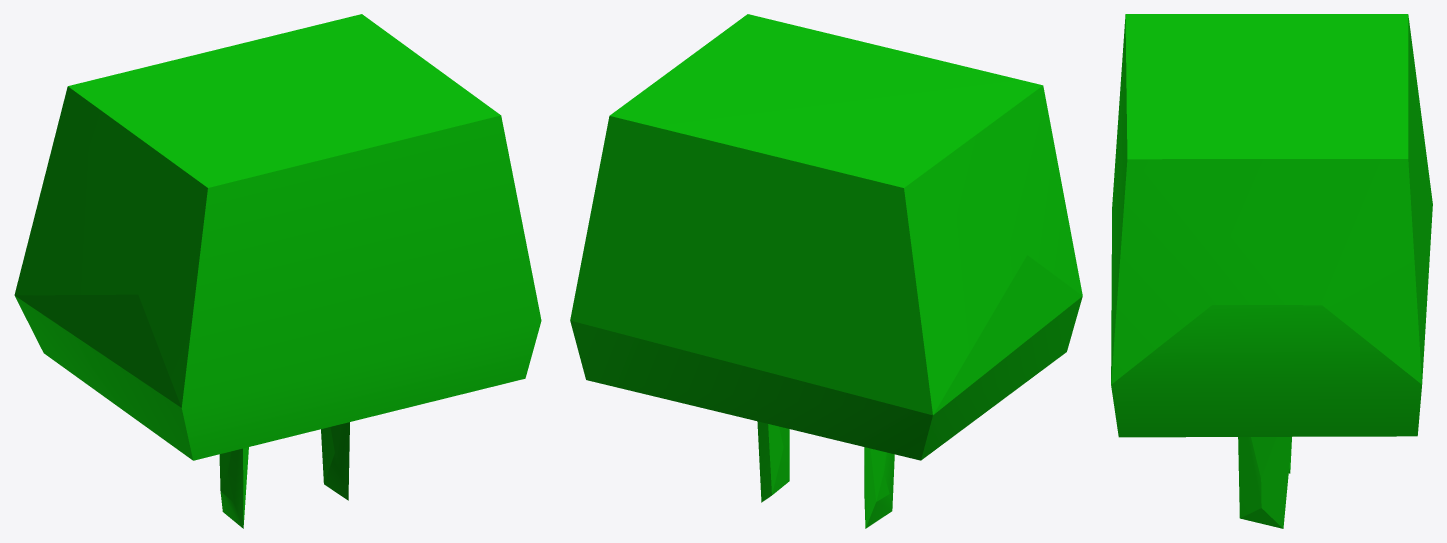
File: UCX_PowerStrip1.fbx
3 views of the same model, side by side, from view 1: azimuth 30°, elevation 25°; view 2: azimuth 150°, elevation 25°; view 3: azimuth 270°, elevation 25° (orthographic).
Visible parts, largest first — view 1: UCX_PowerStrip1; view 2: UCX_PowerStrip1; view 3: UCX_PowerStrip1.
Part boxes in pixels (x1,y1,x2,y2): UCX_PowerStrip1: (14,14,541,528); UCX_PowerStrip1: (570,14,1082,528); UCX_PowerStrip1: (1111,14,1432,528).
Bounding box in the file's own units: 0.0427 × 0.0454 × 0.0319.
